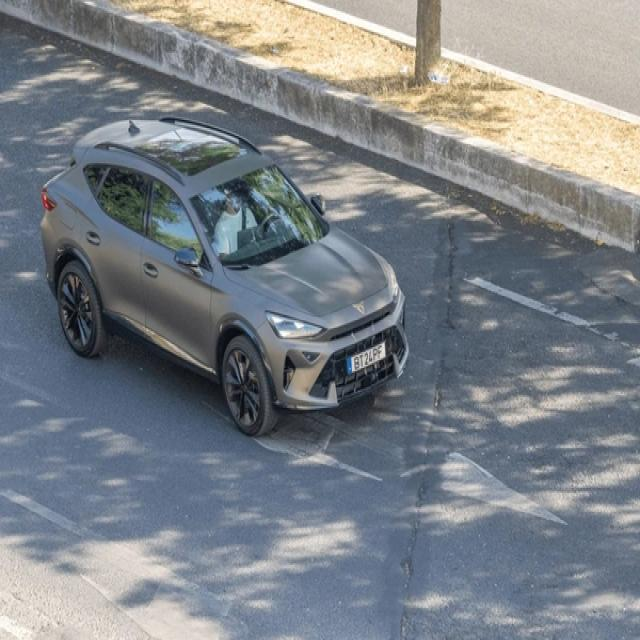cupra: (351, 296, 369, 316)
